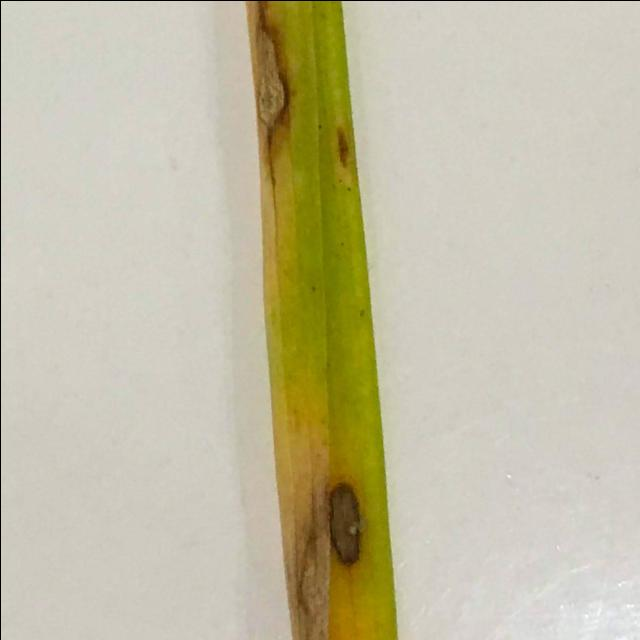Leaf blast: (170, 0, 445, 640)
